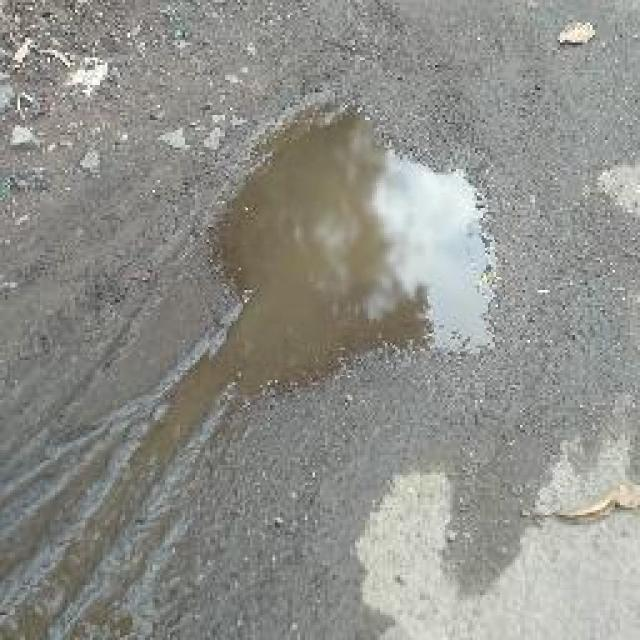puddle: (202, 127, 506, 381)
